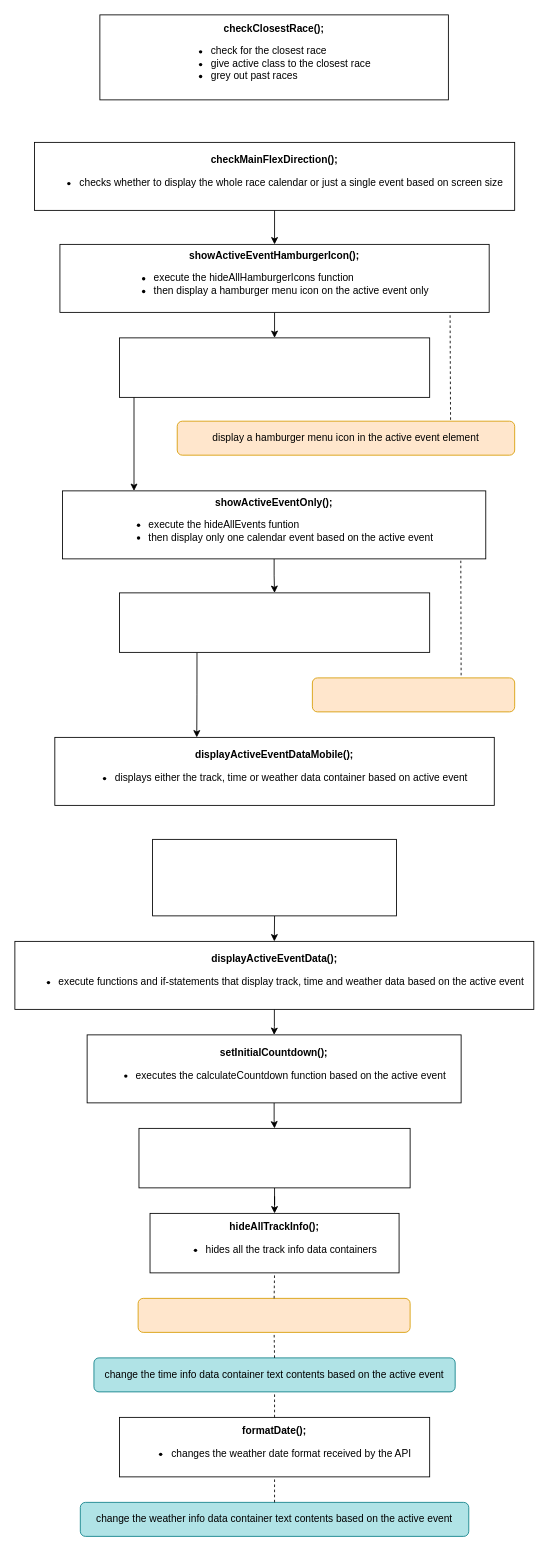
Image size: 549x1551. Some labels were removed from this diagram. The centre of each missing label's shape, as x and y in pixels:
calculateCountdown(); display the countdown data of the active event: (x=274, y=1158)
display the active calendar event: (x=413, y=694)
display the track info data container of the active event: (x=273, y=1315)
getWeatherData(); fetch weather data from API store weather data in localStorage: (x=274, y=877)
hideAllEvents(); hides all calendar event elements: (x=274, y=622)
hideAllHamburgerIcons(); hides all hamburger menu icons in the calendar elements: (x=274, y=367)
